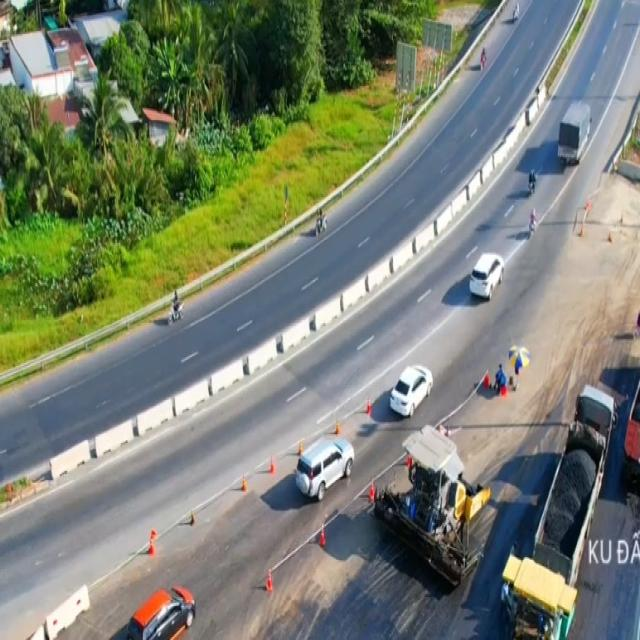car: (127, 582, 195, 640), (295, 434, 353, 500), (381, 363, 436, 419), (466, 249, 506, 303)
motorbike: (169, 289, 183, 323), (527, 205, 540, 238), (525, 168, 538, 200)
truck: (558, 100, 593, 167)
